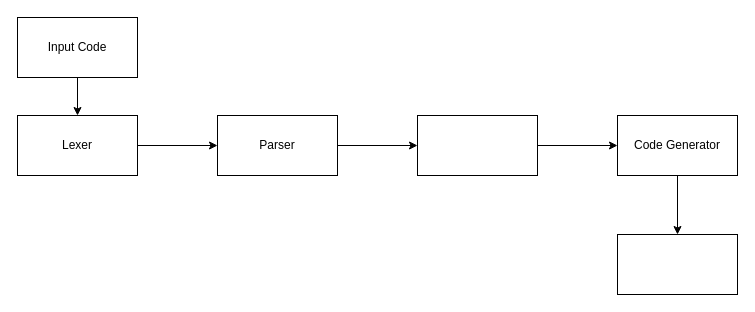
The diagram is 755 pixels wide and 312 high, and some of its shapes have lost their labels. Each missing label, with the centre of its shape:
Output Code: pixel 677 264
Semantic analyzer: pixel 477 145
